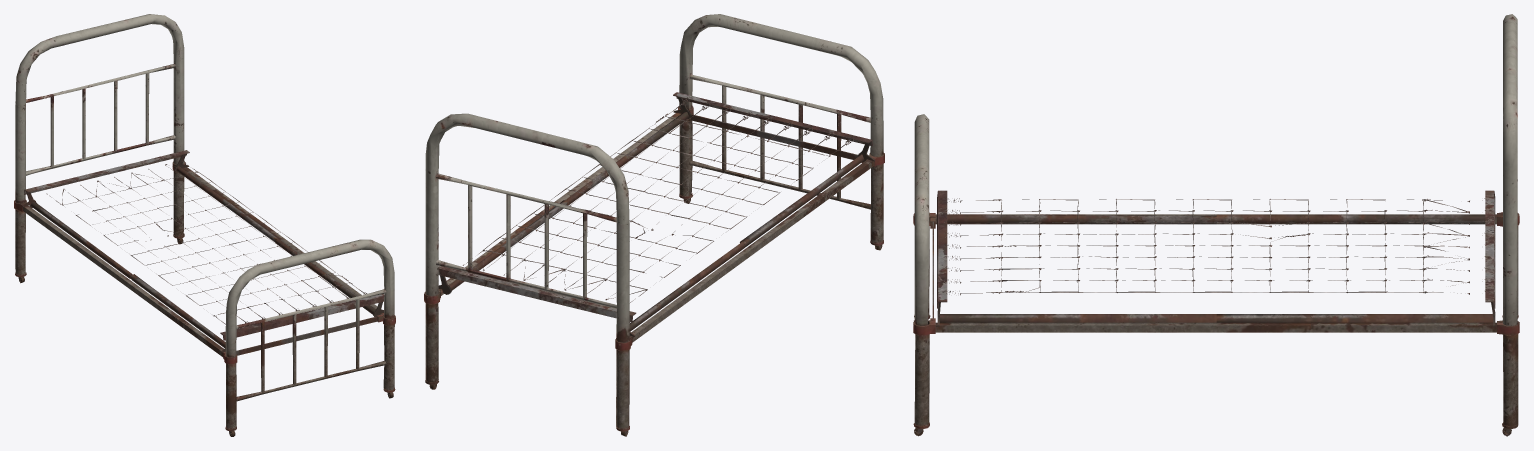
File: hospital-bed.glb
3 renders of one model, left to right at view 1: azimuth 30°, elevation 25°; view 2: azimuth 150°, elevation 25°; view 3: azimuth 270°, elevation 25°, orthographic. The views are drawn at different scales.
Visible parts, largest first — view 1: hospital-bed; view 2: hospital-bed; view 3: hospital-bed.
Part boxes in pixels (box(x1,y1,x2,y2)): hospital-bed: box(14, 14, 395, 436); hospital-bed: box(424, 14, 884, 436); hospital-bed: box(913, 14, 1519, 436).
Bounding box in the file's own units: 0.9047 × 1.2 × 2.
1 material, 1 textured.
